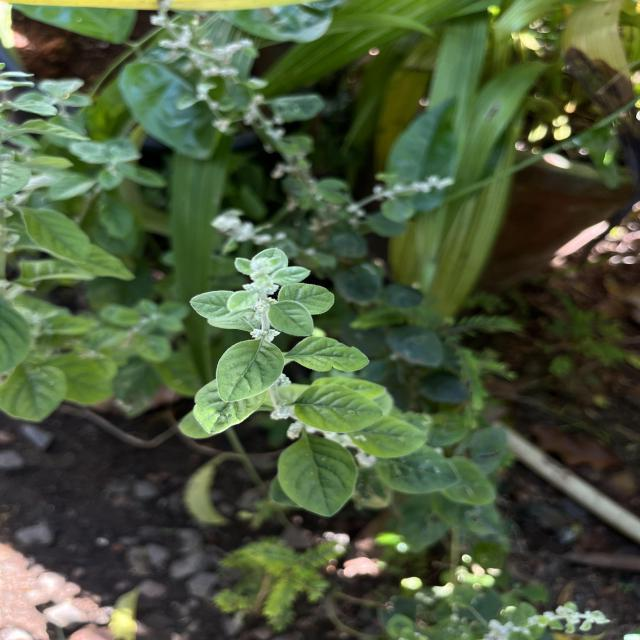Aerva lanata: (213, 338, 286, 404), (288, 334, 372, 374), (276, 282, 337, 316)
